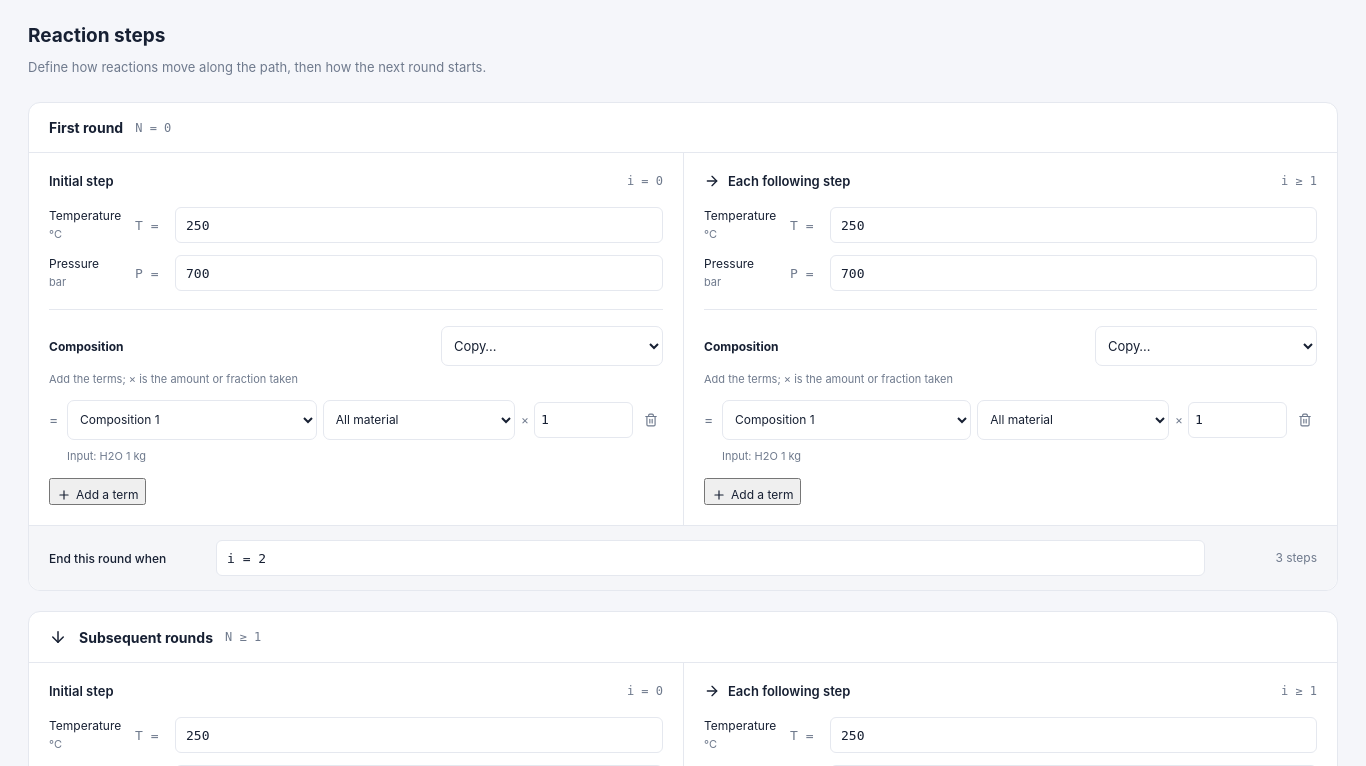
Test: shows the actual error beside the focused field and places help above a low input
The image size is (1366, 766).
Replace the text in the field named "first_start Temperature" with "unknown" at (419, 225), box [175,207,663,243]
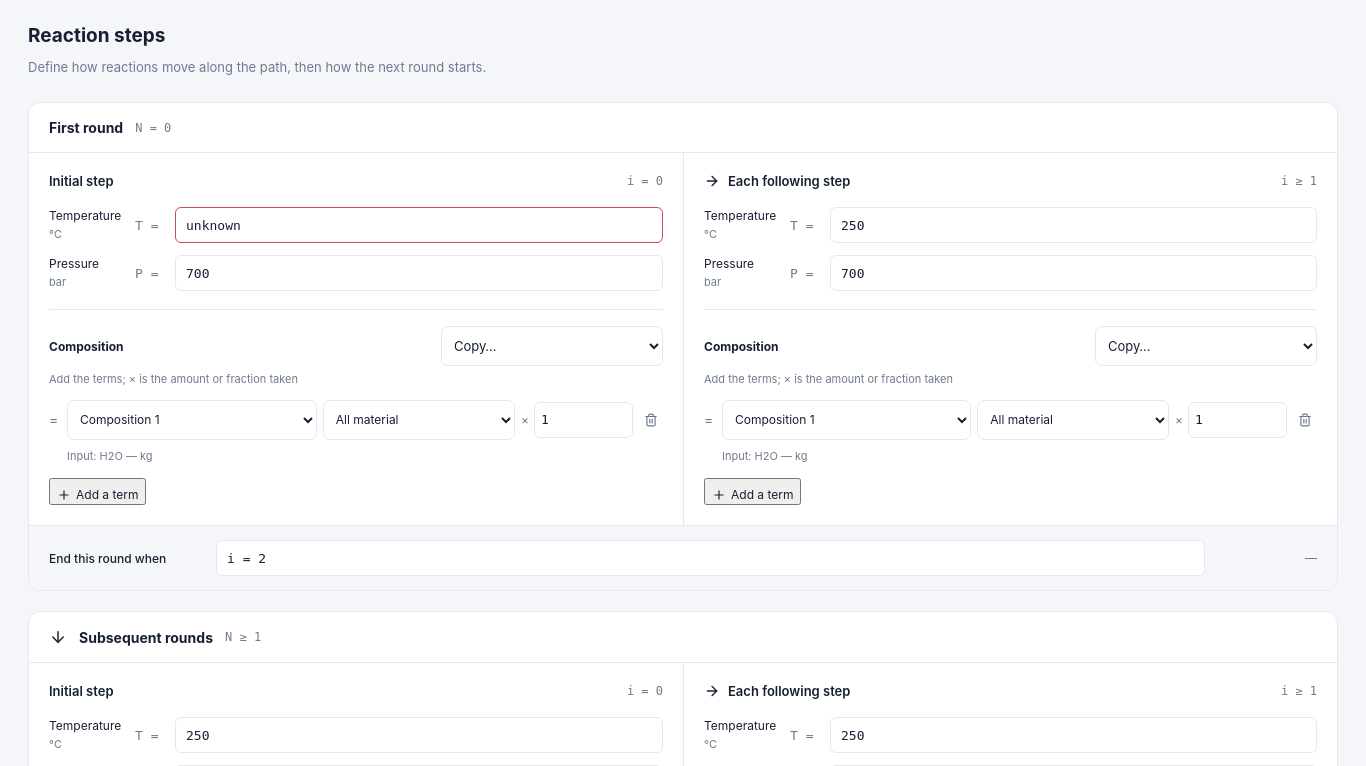
Focus the field named "first_start Temperature" at (419, 225), box [175,207,663,243]
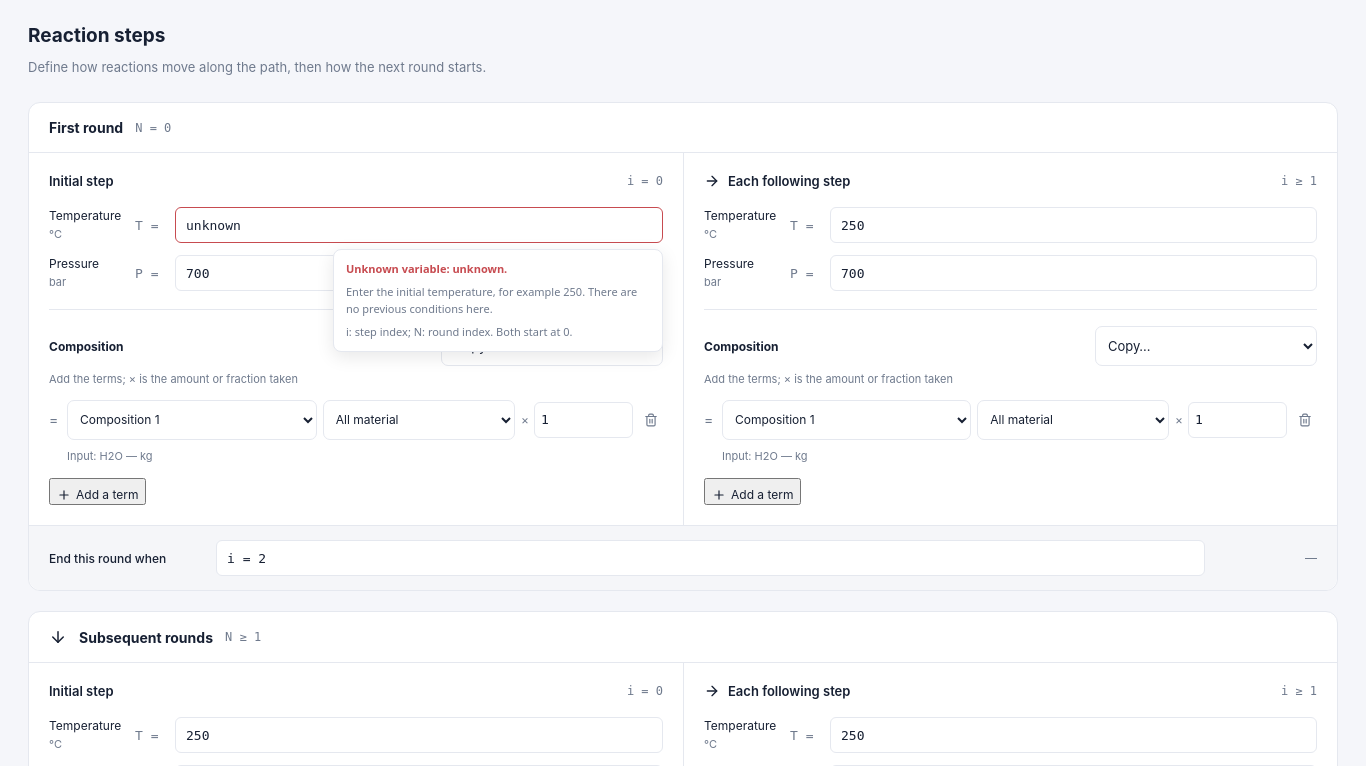
Expected: the text with class "wave-formula-error" reads "Unknown variable: unknown.", [346,261,507,276]
